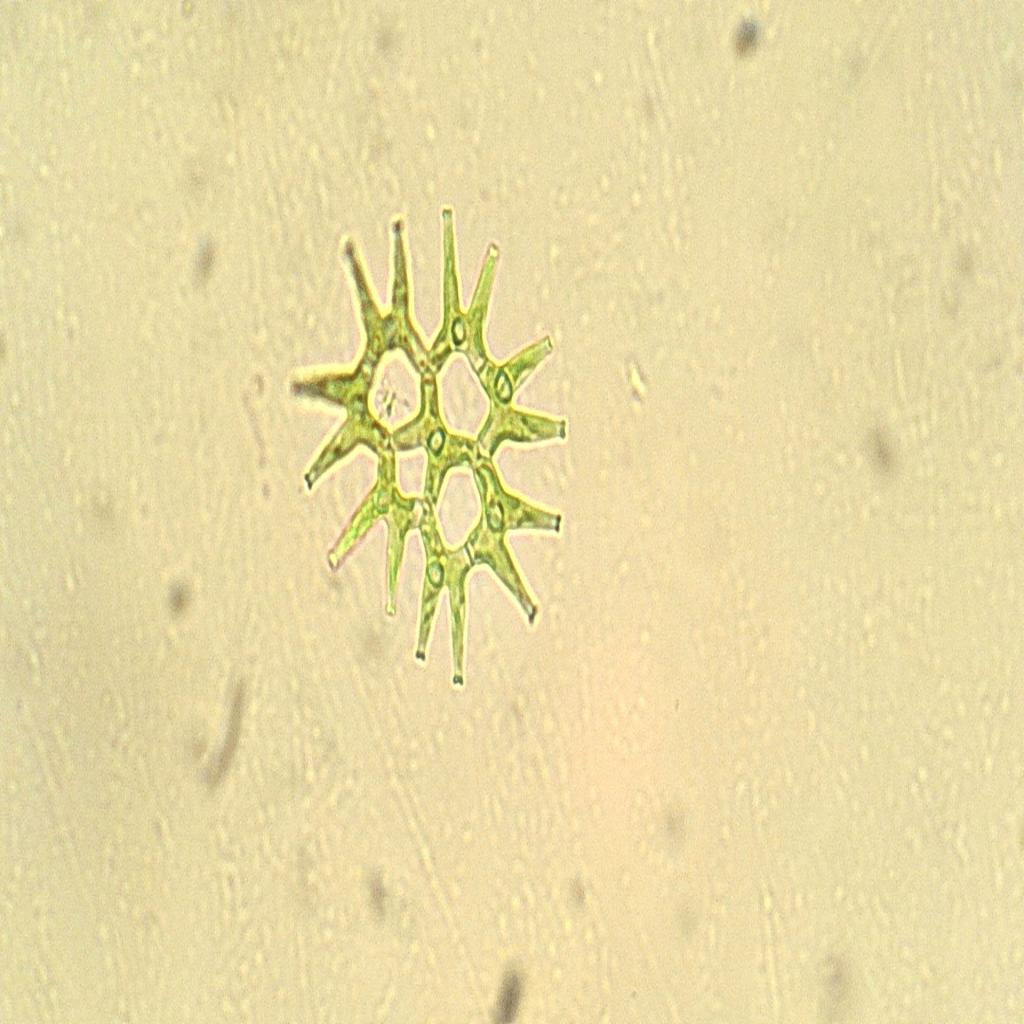Pediastrum_75T: (282, 178, 578, 703)
